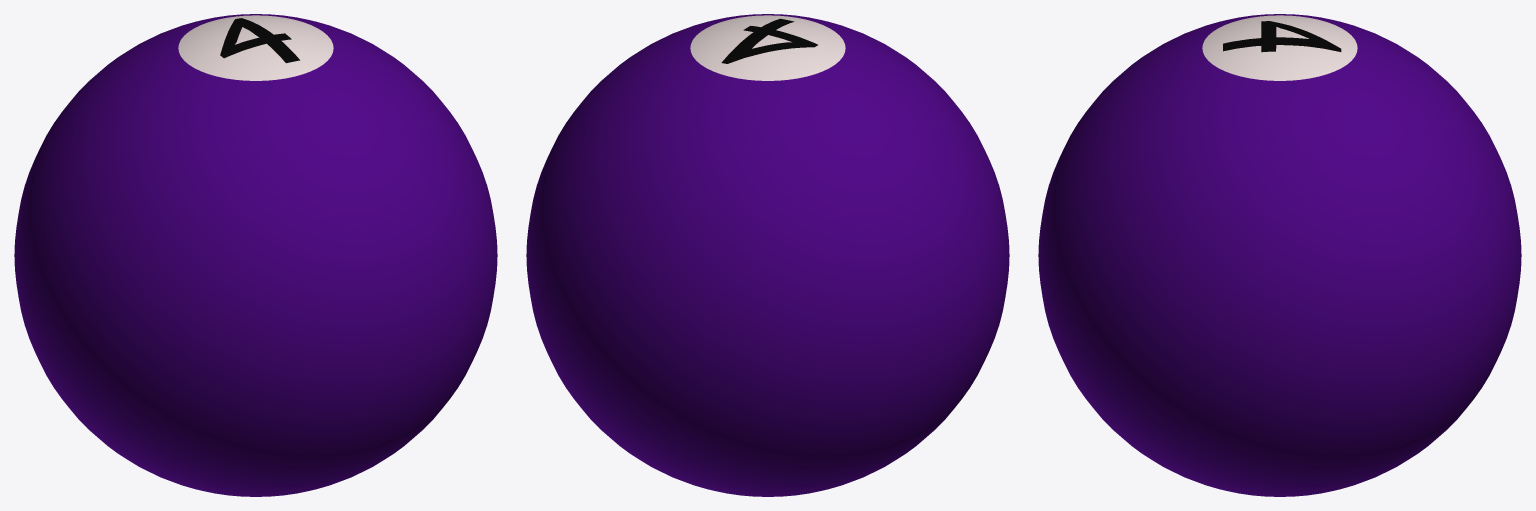
Rendered from fourBall.glb.
The picture shows the model from 3 angles, left to right: view 1: azimuth 30°, elevation 25°; view 2: azimuth 150°, elevation 25°; view 3: azimuth 270°, elevation 25°; orthographic projection.
Visible parts, largest first — view 1: Sphere; view 2: Sphere; view 3: Sphere.
Boxes of the visible parts, box(x1,y1,x2,y2) form: Sphere: box(14, 14, 497, 496); Sphere: box(526, 14, 1009, 496); Sphere: box(1038, 14, 1521, 496).
Bounding box in the file's own units: 0.127 × 0.127 × 0.127.
